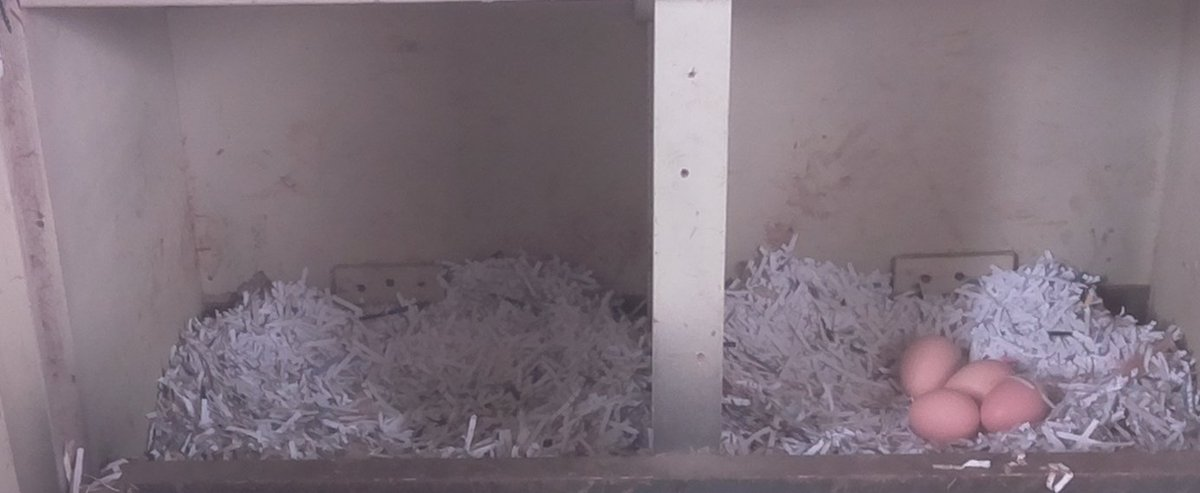egg: (904, 390, 988, 452), (900, 332, 969, 400), (981, 377, 1048, 442), (944, 356, 1025, 399)
